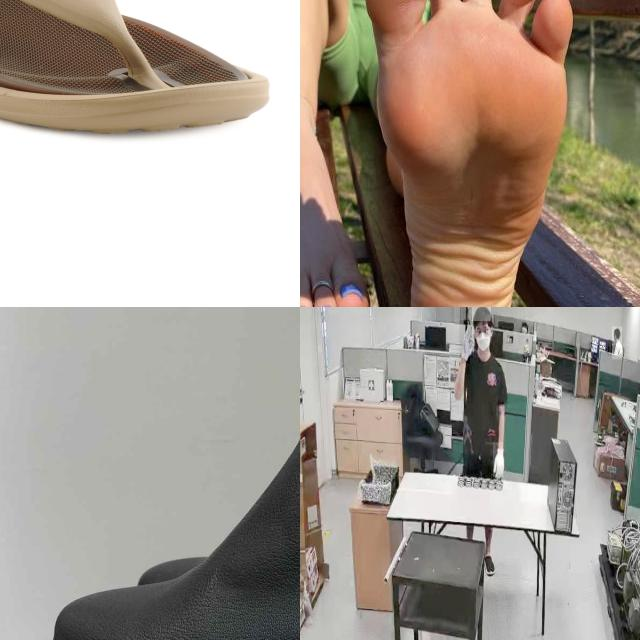Barefoots: (362, 0, 579, 307), (300, 125, 379, 307)
Sandals: (16, 307, 300, 640), (0, 0, 271, 135)
face_mask: (476, 329, 492, 356)
glasses: (474, 325, 493, 341)
hand_glove: (460, 320, 470, 365), (493, 442, 504, 478)
head_nohelmet: (472, 307, 491, 322), (613, 326, 620, 334)
person: (454, 307, 507, 483), (612, 326, 622, 361)
shoes: (482, 550, 496, 579)
